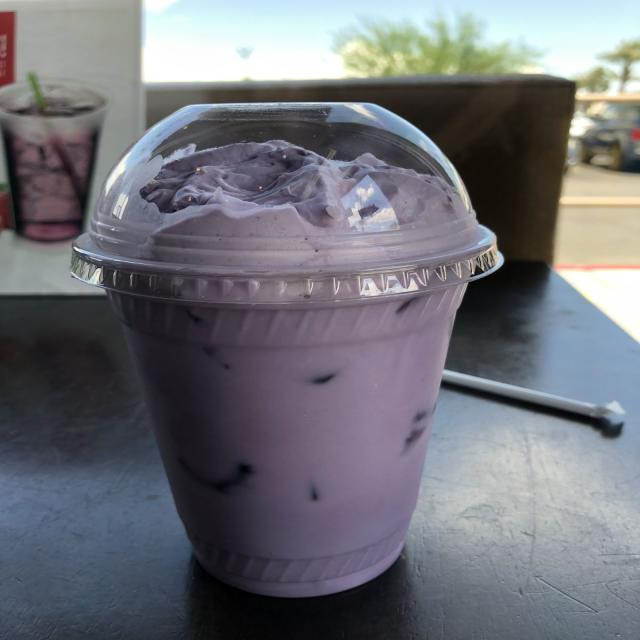plastic cup: (71, 105, 505, 597)
